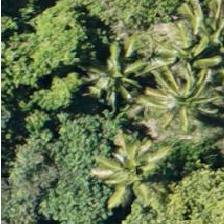Kelapa_Sawit: (73, 24, 163, 114), (79, 118, 169, 208), (135, 56, 224, 146), (167, 0, 224, 70)
